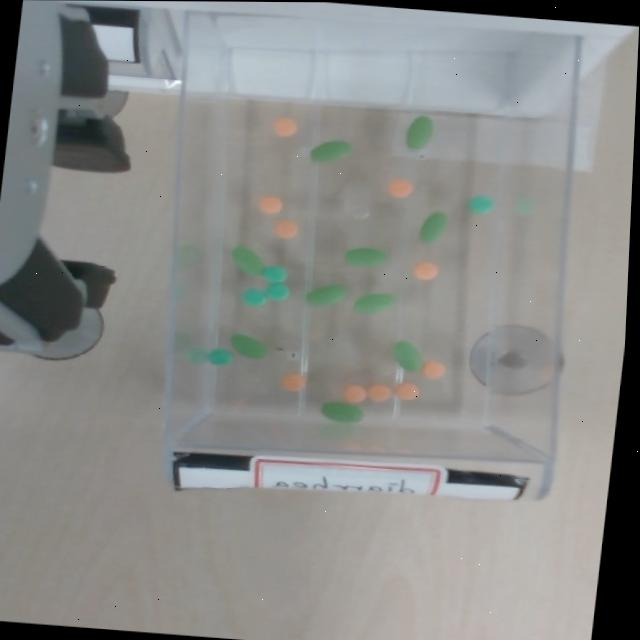famodine: (467, 194, 496, 215), (263, 281, 289, 301), (466, 195, 493, 214), (261, 264, 286, 284), (208, 347, 232, 367), (241, 288, 265, 307), (205, 349, 232, 365), (261, 266, 286, 283), (263, 284, 289, 300), (242, 289, 265, 306)
otillen_tab: (308, 137, 353, 165), (403, 113, 435, 152), (352, 289, 396, 317), (390, 339, 426, 373), (416, 210, 449, 246), (227, 245, 265, 276), (227, 332, 268, 360), (319, 400, 366, 424), (304, 282, 347, 308), (404, 116, 433, 151), (343, 245, 387, 268), (229, 334, 266, 360), (230, 247, 263, 275), (321, 402, 364, 423), (310, 141, 351, 163), (418, 213, 447, 244), (393, 341, 422, 372), (353, 293, 395, 314), (305, 285, 347, 306), (344, 247, 386, 266)
samsung_octylonium_tab: (386, 176, 414, 198), (279, 371, 305, 393), (271, 117, 298, 137), (421, 359, 446, 380), (341, 384, 366, 405), (394, 381, 420, 401), (273, 220, 299, 240), (386, 179, 413, 198), (272, 117, 297, 137), (257, 195, 282, 215), (412, 261, 438, 280), (393, 382, 419, 401), (273, 220, 299, 239), (411, 262, 438, 280), (364, 384, 391, 402), (340, 385, 366, 403), (367, 384, 391, 403), (420, 361, 445, 379), (259, 196, 283, 214), (280, 374, 305, 391)
